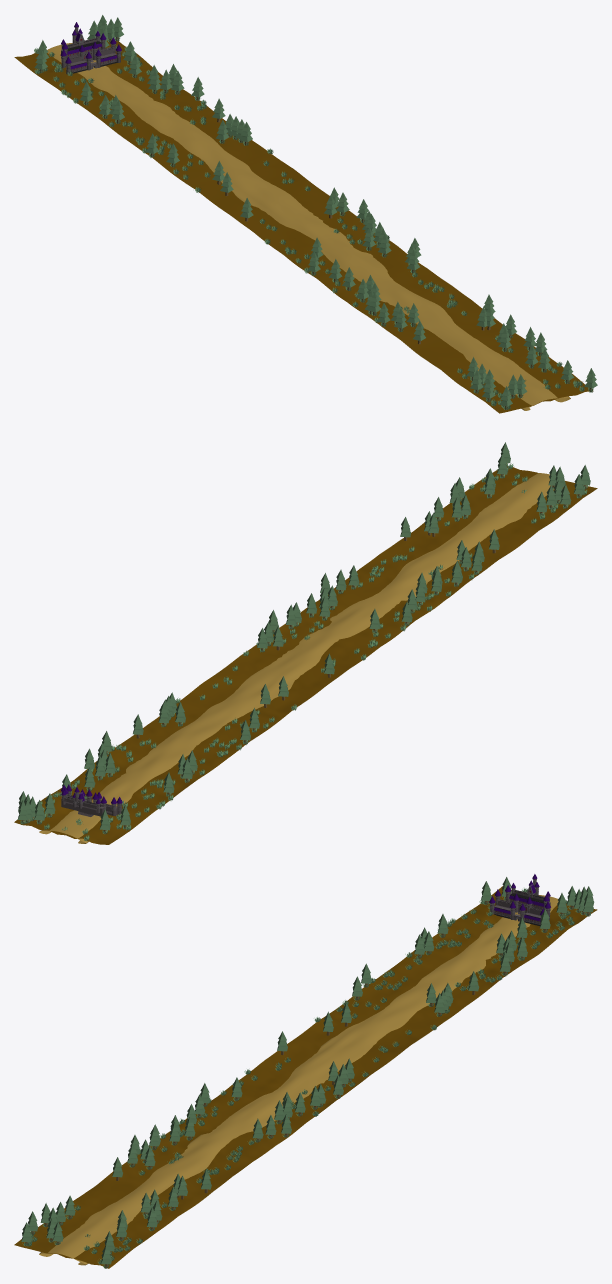
Rendered from 魔王城外観3.fbx.
The picture shows the model from 3 angles, top to bottom: view 1: azimuth 30°, elevation 25°; view 2: azimuth 150°, elevation 25°; view 3: azimuth 330°, elevation 25°; orthographic projection.
Visible parts, largest first — view 1: 平面, 平面.001, Cube.003; view 2: 平面, 平面.001, Cube.003; view 3: 平面, 平面.001, Cube.003.
Part boxes in pixels (<box>): 平面: <box>14,15,597,413</box>; 平面.001: <box>47,43,570,410</box>; Cube.003: <box>60,22,121,74</box>; 平面: <box>14,442,597,844</box>; 平面.001: <box>39,473,553,843</box>; Cube.003: <box>61,784,122,816</box>; 平面: <box>14,877,597,1268</box>; 平面.001: <box>39,895,558,1265</box>; Cube.003: <box>489,874,550,925</box>.
Size of the model in its own units: 8853 by 3439 by 72115.
